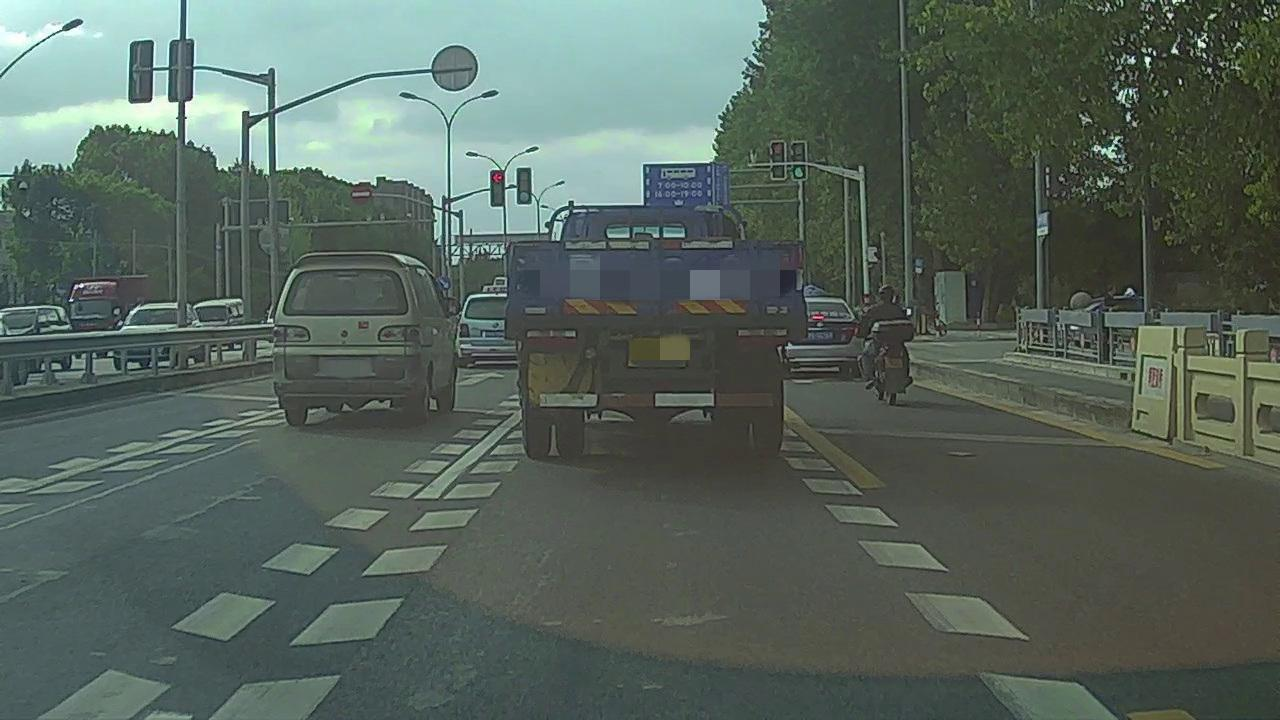traffic_light: (768, 139, 785, 179), (790, 140, 807, 179), (489, 170, 505, 205), (517, 168, 532, 204)
